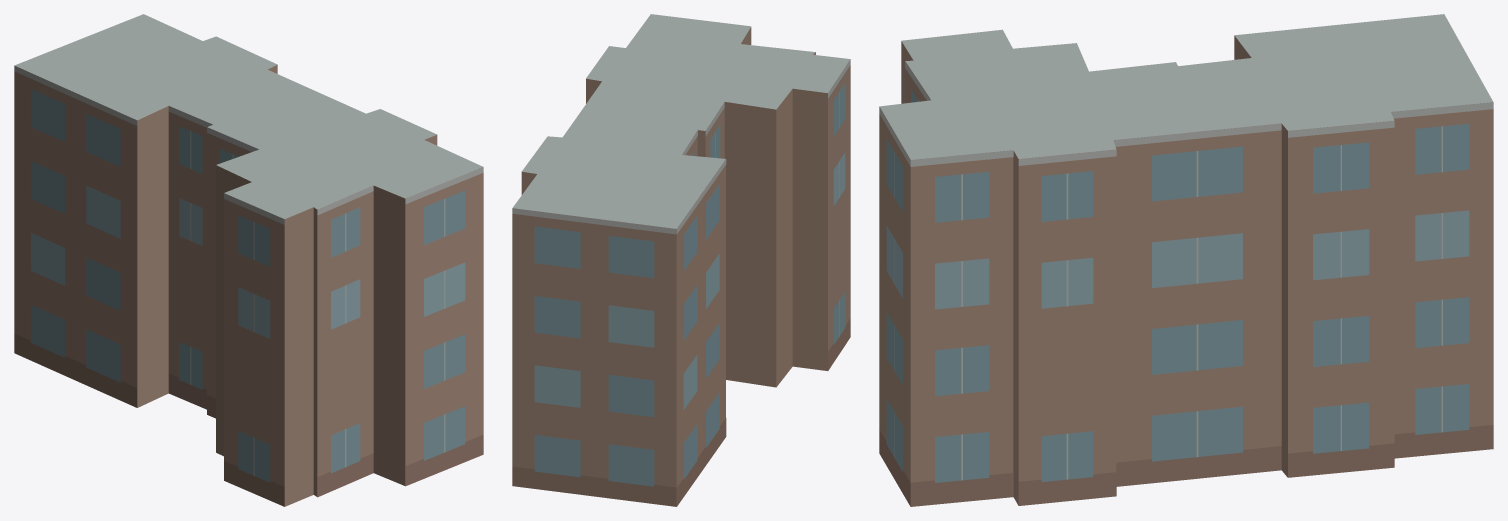
The model's file is survey-upis-32915690.glb.
3 renders of one model, left to right at view 1: azimuth 30°, elevation 25°; view 2: azimuth 150°, elevation 25°; view 3: azimuth 270°, elevation 25°, orthographic. The views are drawn at different scales.
Parts seen in each view (by area): view 1: survey-upis-32915690.tmp; view 2: survey-upis-32915690.tmp; view 3: survey-upis-32915690.tmp.
Part boxes in pixels (x1=…): survey-upis-32915690.tmp: x1=14, y1=14, x2=483, y2=506; survey-upis-32915690.tmp: x1=512, y1=14, x2=850, y2=506; survey-upis-32915690.tmp: x1=879, y1=14, x2=1493, y2=506.
Size of the model in its own units: 11.02 by 12.2 by 19.59.
